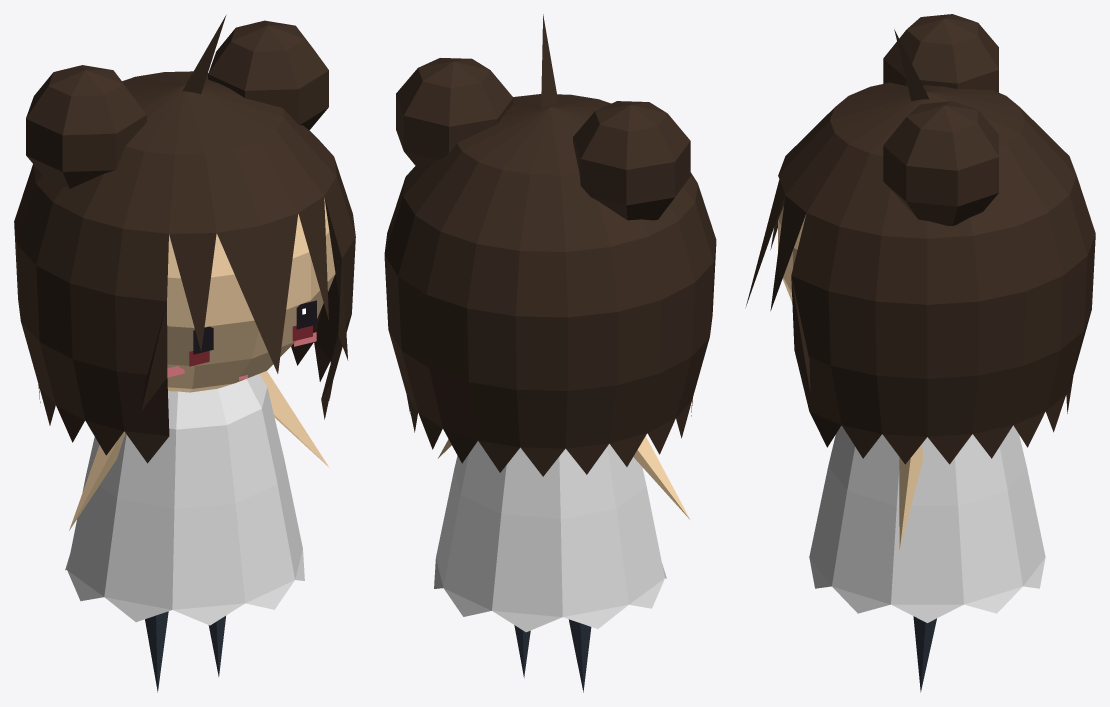
The model's file is lp_bun.glb.
3 renders of one model, left to right at view 1: azimuth 30°, elevation 25°; view 2: azimuth 150°, elevation 25°; view 3: azimuth 270°, elevation 25°, orthographic. The views are drawn at different scales.
Parts seen in each view (by area): view 1: hair, cloth, skin, armR, armL, legL, eye, legR, eyec; view 2: hair, cloth, armL, legL; view 3: hair, cloth, armR, legR, skin.
Boxes of the visible parts, x1,y1,x2,y2 form: hair: [14, 15, 355, 463]; cloth: [65, 374, 304, 625]; skin: [167, 198, 335, 392]; armR: [259, 371, 329, 467]; armL: [69, 431, 125, 530]; legL: [145, 611, 168, 692]; eye: [193, 300, 316, 354]; legR: [208, 616, 225, 676]; eyec: [189, 325, 312, 366]; hair: [384, 14, 716, 476]; cloth: [434, 441, 666, 632]; armL: [633, 436, 690, 519]; legL: [568, 619, 591, 692]; hair: [745, 14, 1095, 464]; cloth: [809, 425, 1045, 622]; armR: [899, 444, 923, 549]; legR: [913, 616, 936, 692]; skin: [778, 206, 806, 302].
Bounding box in the file's own units: 0.604 × 1.31 × 0.629.
